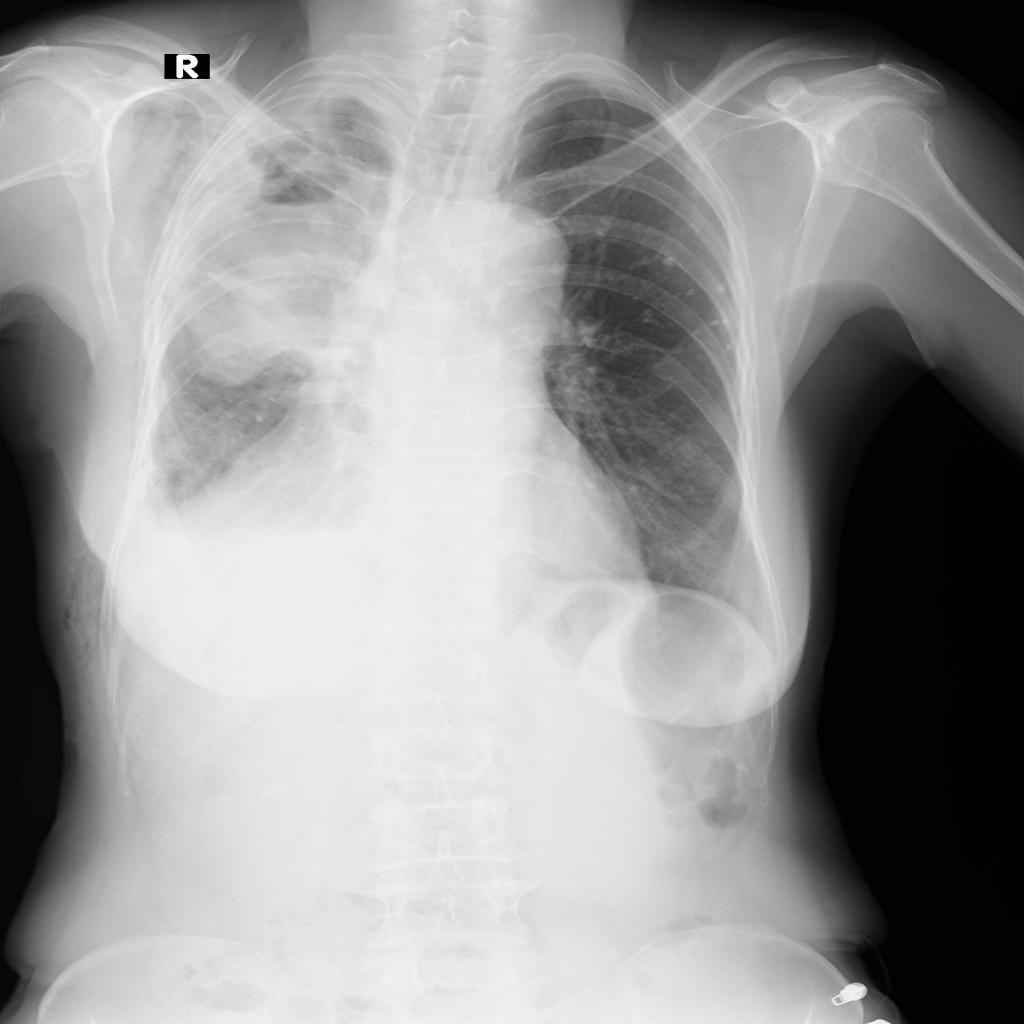Nodule: (642, 248, 739, 351), (642, 310, 656, 326), (661, 257, 677, 267), (709, 318, 721, 329), (723, 343, 734, 353), (686, 288, 695, 297)
